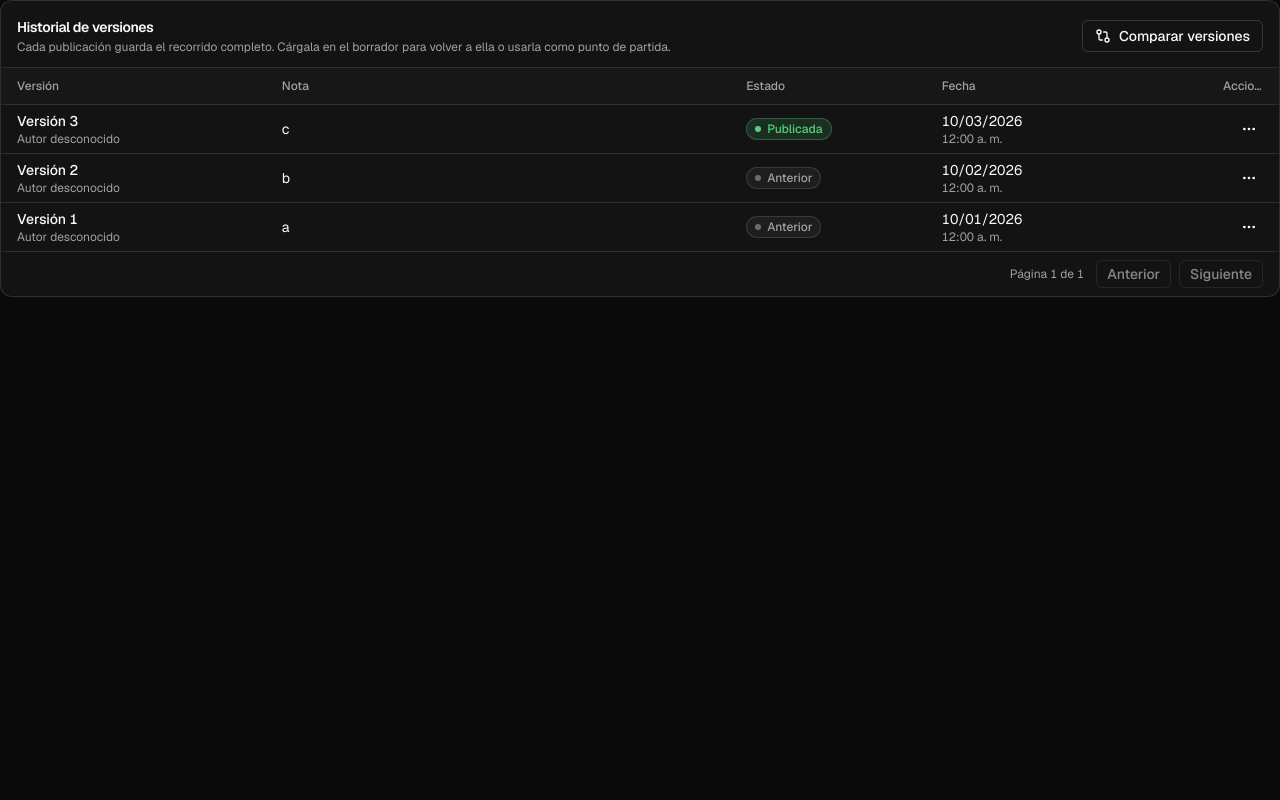
Scenario: VersionsTab › compara una versión con la publicada y avisa si es la primera
The width and height of the screenshot is (1280, 800).
Click the button named "Acciones de la versión 2".
click(1249, 178)  # box [1235,164,1263,192]
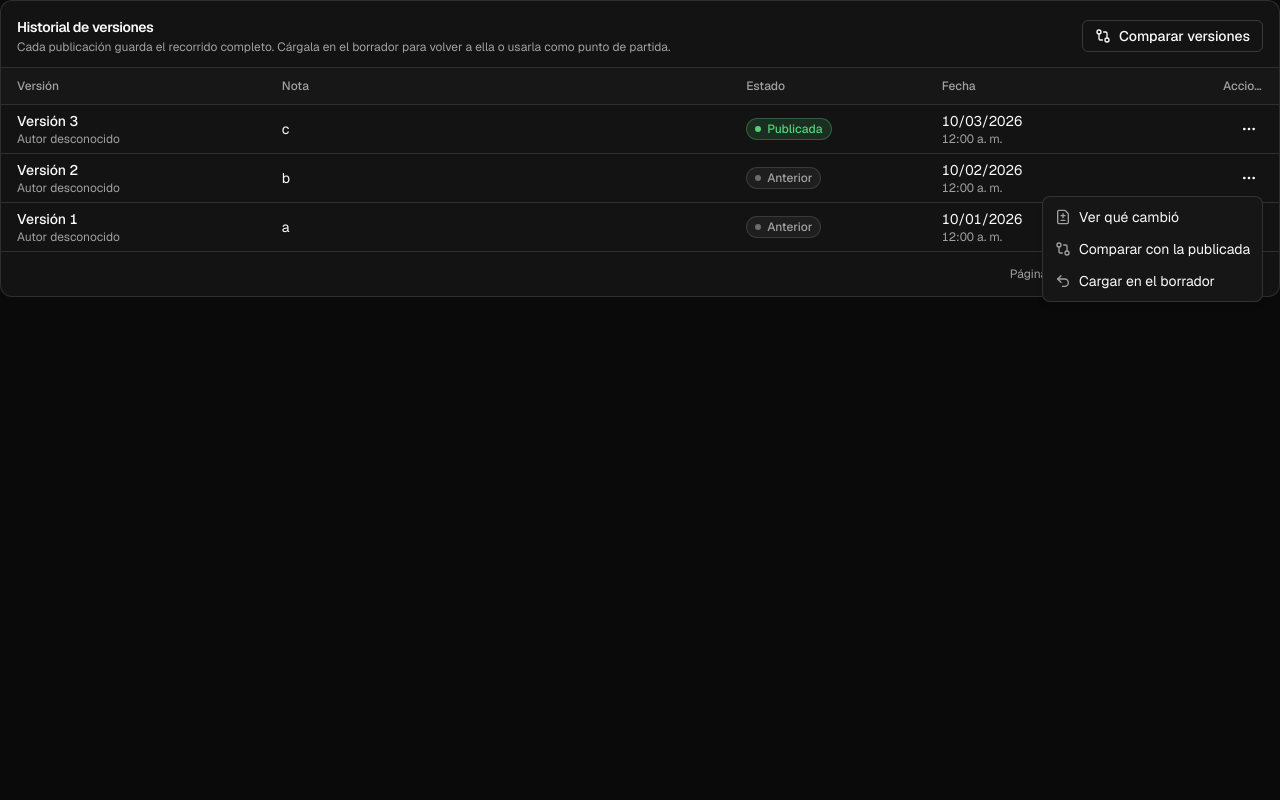
Click the menu item "Comparar con la publicada".
click(1153, 249)  # box [1055,240,1250,258]
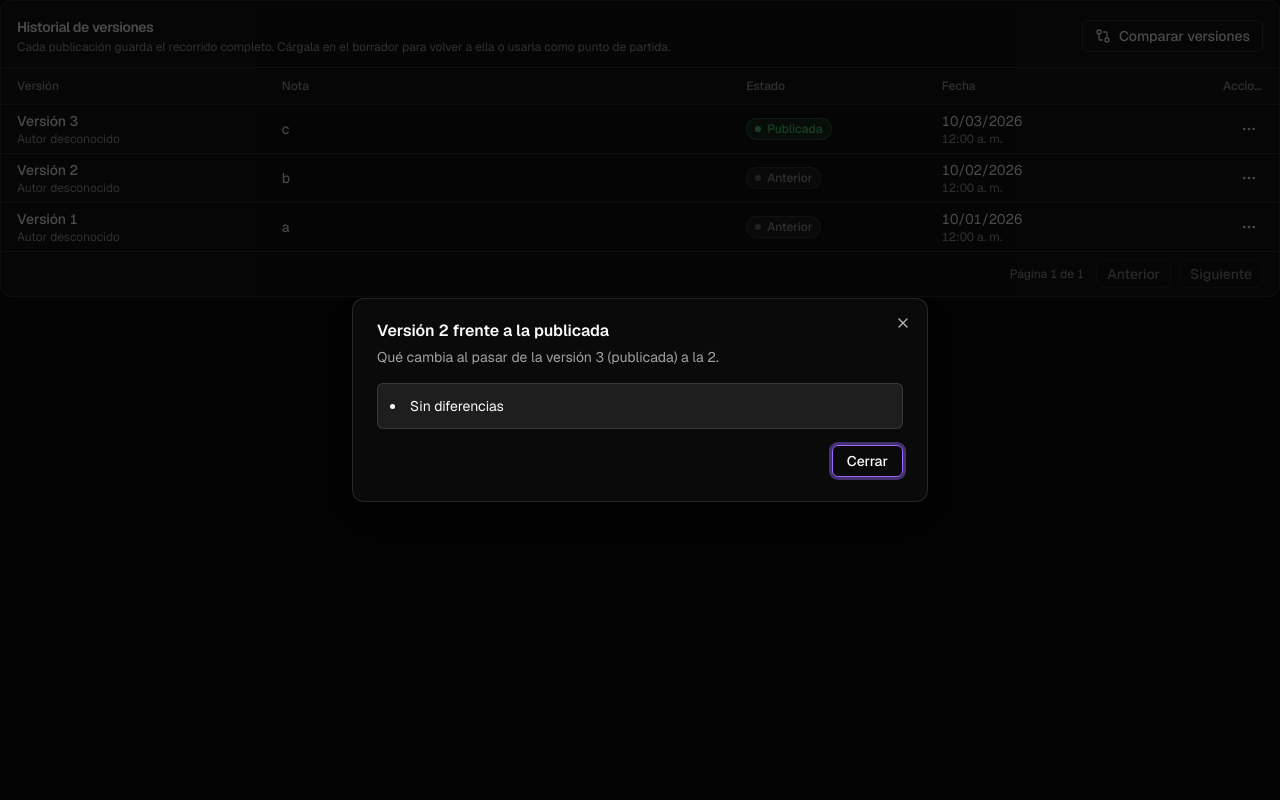
Now the list item "Sin diferencias" is shown, box [410,397,504,415]
Click the button "Cerrar".
click(867, 461)  # box [832,445,903,477]
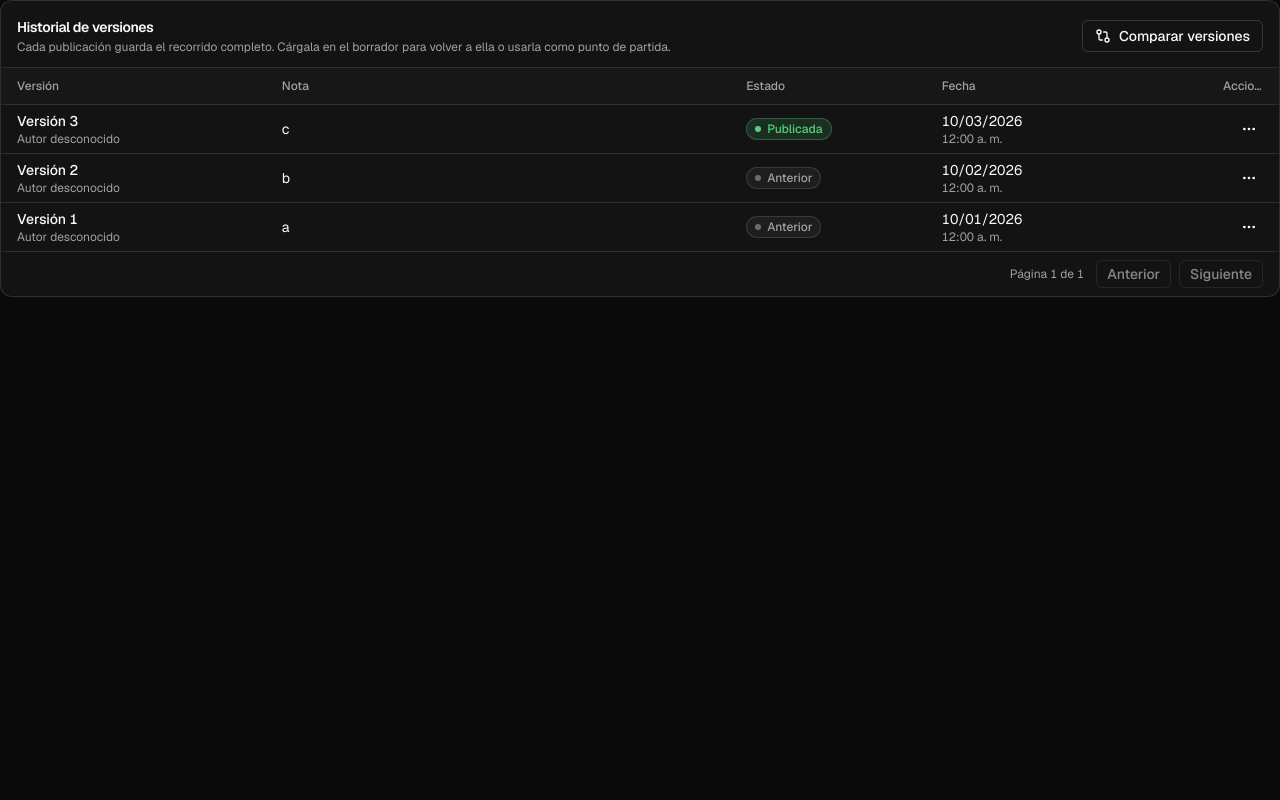
Click the button named "Acciones de la versión 1".
click(1249, 227)  # box [1235,213,1263,241]
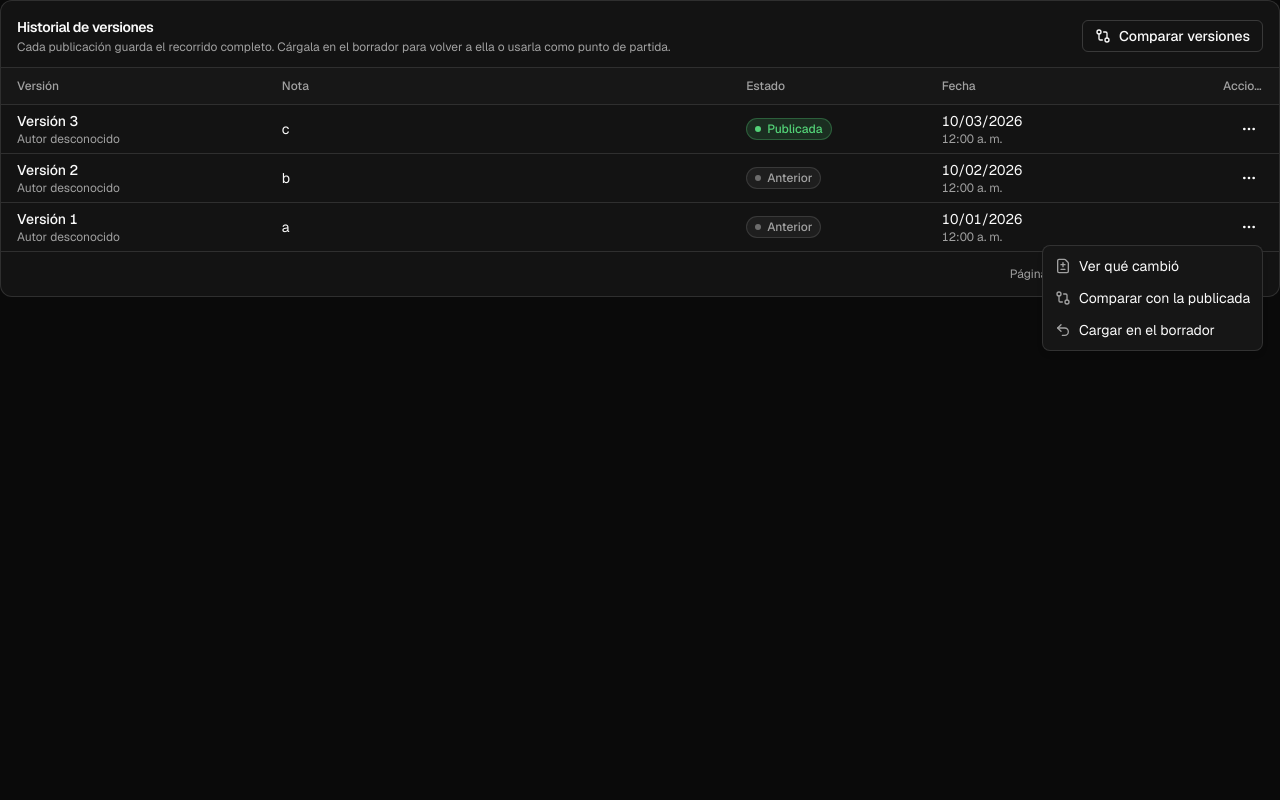
Click the menu item "Ver qué cambió".
click(1117, 266)  # box [1055,257,1179,275]
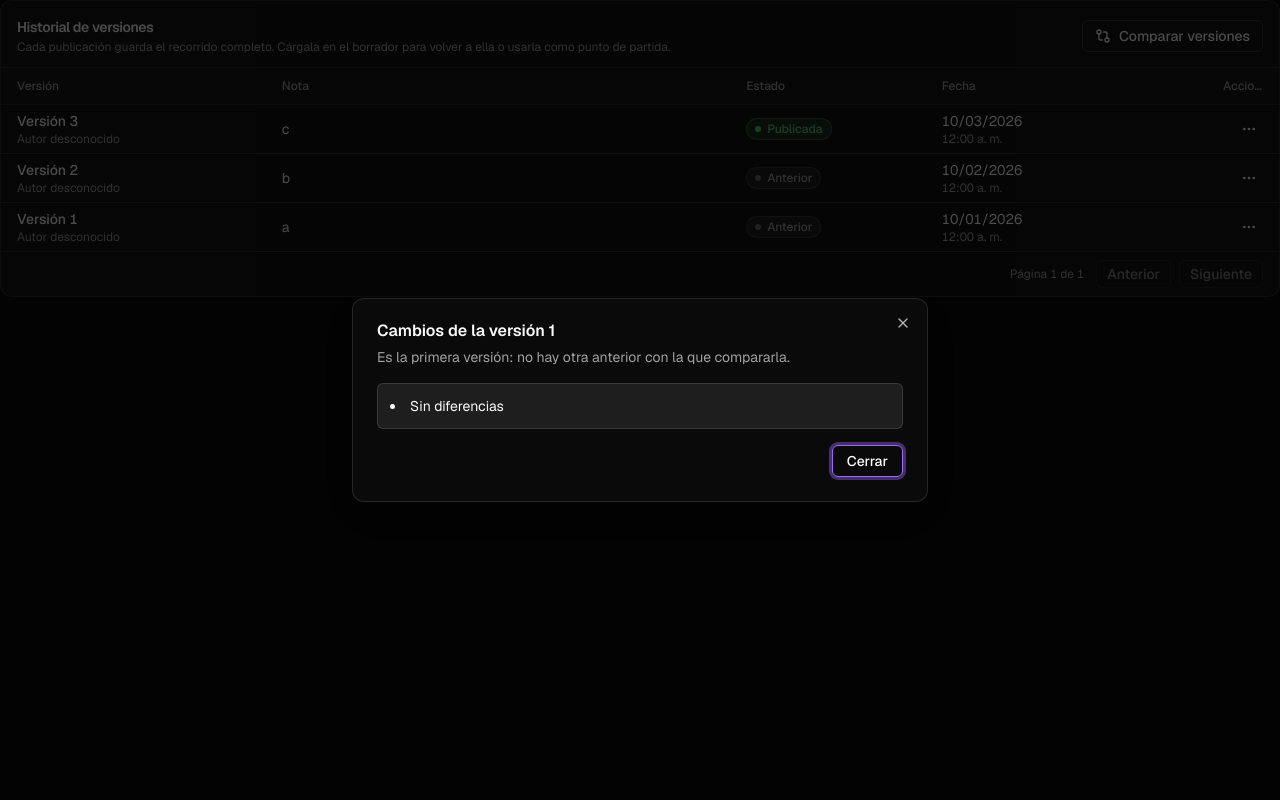
Now the text "primera versión" is shown, box [377,348,790,366]
